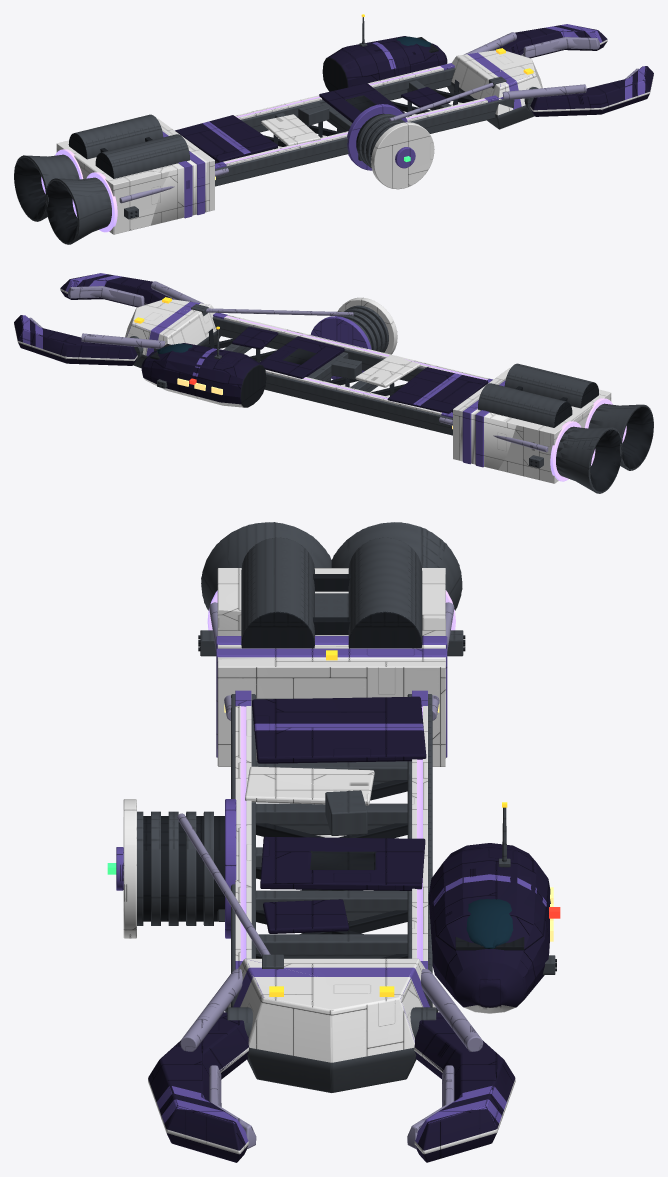
Rendered from ashline_rig_quiet.glb.
The picture shows the model from 3 angles, top to bottom: view 1: azimuth 30°, elevation 25°; view 2: azimuth 150°, elevation 25°; view 3: azimuth 270°, elevation 25°; orthographic projection. The views are drawn at different scales.
Parts seen in each view (by area): view 1: LOD0_MOTION_HULL_CORE_Mechanical, LOD0_MOTION_HULL_CORE_Armor, LOD0_MOTION_HULL_CORE_Hull, LOD0_MOTION_HULL_CORE_Warning, LOD0_MOTION_HULL_CORE_MechanicalDark, LOD0_MOTION_HULL_CORE_BrushedMetal, LOD2_MOTION_HULL_CORE_MechanicalDark, LOD1_MOTION_HULL_CORE_Armor, LOD2_MOTION_HULL_CORE_Mechanical, LOD1_MOTION_HULL_CORE_Mechanical, LOD1_MOTION_HULL_CORE_Hull, LOD0_MOTION_HULL_CORE_HOOK_DRIVE_CORE (+2 smaller); view 2: LOD0_MOTION_HULL_CORE_Mechanical, LOD0_MOTION_HULL_CORE_Hull, LOD0_MOTION_HULL_CORE_Armor, LOD0_MOTION_HULL_CORE_Warning, LOD0_MOTION_HULL_CORE_MechanicalDark, LOD0_MOTION_HULL_CORE_BrushedMetal, LOD2_MOTION_HULL_CORE_MechanicalDark, LOD1_MOTION_HULL_CORE_Hull, LOD1_MOTION_HULL_CORE_Armor, LOD2_MOTION_HULL_CORE_Mechanical, LOD1_MOTION_HULL_CORE_Mechanical, LOD0_MOTION_HULL_CORE_HOOK_DRIVE_CORE (+5 smaller); view 3: LOD0_MOTION_HULL_CORE_Hull, LOD0_MOTION_HULL_CORE_Mechanical, LOD0_MOTION_HULL_CORE_Armor, LOD0_MOTION_HULL_CORE_MechanicalDark, LOD0_MOTION_HULL_CORE_Warning, LOD0_MOTION_HULL_CORE_BrushedMetal, LOD1_MOTION_HULL_CORE_Hull, LOD1_MOTION_HULL_CORE_Armor, LOD1_MOTION_HULL_CORE_Mechanical, LOD2_MOTION_HULL_CORE_Mechanical, LOD2_MOTION_HULL_CORE_Lights_Cyan_sodium, LOD0_MOTION_HULL_CORE_Livery (+4 smaller).
Boxes of the visible parts, x1,y1,x2,y2 form: LOD0_MOTION_HULL_CORE_Mechanical: [14, 17, 538, 244]; LOD0_MOTION_HULL_CORE_Armor: [56, 39, 653, 234]; LOD0_MOTION_HULL_CORE_Hull: [175, 25, 653, 162]; LOD0_MOTION_HULL_CORE_Warning: [162, 24, 645, 217]; LOD0_MOTION_HULL_CORE_MechanicalDark: [14, 37, 477, 242]; LOD0_MOTION_HULL_CORE_BrushedMetal: [119, 32, 638, 203]; LOD2_MOTION_HULL_CORE_MechanicalDark: [14, 58, 376, 242]; LOD1_MOTION_HULL_CORE_Armor: [130, 61, 650, 230]; LOD2_MOTION_HULL_CORE_Mechanical: [14, 99, 528, 244]; LOD1_MOTION_HULL_CORE_Mechanical: [15, 17, 530, 244]; LOD1_MOTION_HULL_CORE_Hull: [175, 27, 652, 161]; LOD0_MOTION_HULL_CORE_HOOK_DRIVE_CORE: [41, 149, 117, 232]; LOD0_MOTION_HULL_CORE_Mechanical: [130, 304, 653, 493]; LOD0_MOTION_HULL_CORE_Hull: [14, 274, 487, 413]; LOD0_MOTION_HULL_CORE_Armor: [14, 288, 611, 483]; LOD0_MOTION_HULL_CORE_Warning: [22, 273, 505, 467]; LOD0_MOTION_HULL_CORE_MechanicalDark: [150, 310, 653, 491]; LOD0_MOTION_HULL_CORE_BrushedMetal: [29, 281, 548, 452]; LOD2_MOTION_HULL_CORE_MechanicalDark: [240, 348, 653, 491]; LOD1_MOTION_HULL_CORE_Hull: [18, 279, 487, 412]; LOD1_MOTION_HULL_CORE_Armor: [17, 297, 538, 479]; LOD2_MOTION_HULL_CORE_Mechanical: [137, 306, 653, 493]; LOD1_MOTION_HULL_CORE_Mechanical: [138, 306, 653, 491]; LOD0_MOTION_HULL_CORE_HOOK_DRIVE_CORE: [550, 398, 626, 481]; LOD0_MOTION_HULL_CORE_Hull: [148, 697, 549, 1162]; LOD0_MOTION_HULL_CORE_Mechanical: [137, 522, 555, 1092]; LOD0_MOTION_HULL_CORE_Armor: [123, 568, 519, 1154]; LOD0_MOTION_HULL_CORE_MechanicalDark: [143, 574, 556, 970]; LOD0_MOTION_HULL_CORE_Warning: [116, 636, 506, 1143]; LOD0_MOTION_HULL_CORE_BrushedMetal: [177, 602, 482, 1148]; LOD1_MOTION_HULL_CORE_Hull: [159, 696, 550, 1162]; LOD1_MOTION_HULL_CORE_Armor: [124, 587, 513, 1153]; LOD1_MOTION_HULL_CORE_Mechanical: [142, 522, 506, 1092]; LOD2_MOTION_HULL_CORE_Mechanical: [143, 522, 462, 1092]; LOD2_MOTION_HULL_CORE_Lights_Cyan_sodium: [241, 706, 422, 960]; LOD0_MOTION_HULL_CORE_Livery: [254, 723, 546, 906].
Size of what is drawn, in the model's own units: 18.36 by 2.9 by 6.15.
Materials: 14 (7 with a texture image).
